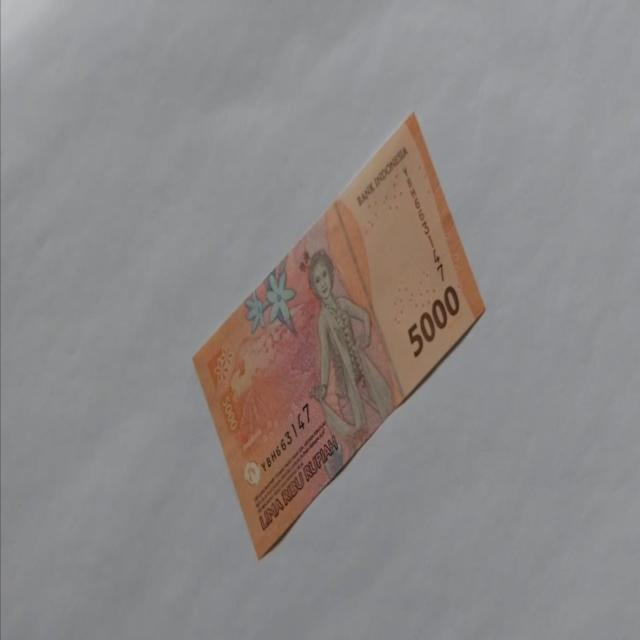lima ribu rupiah: (191, 110, 486, 560)
